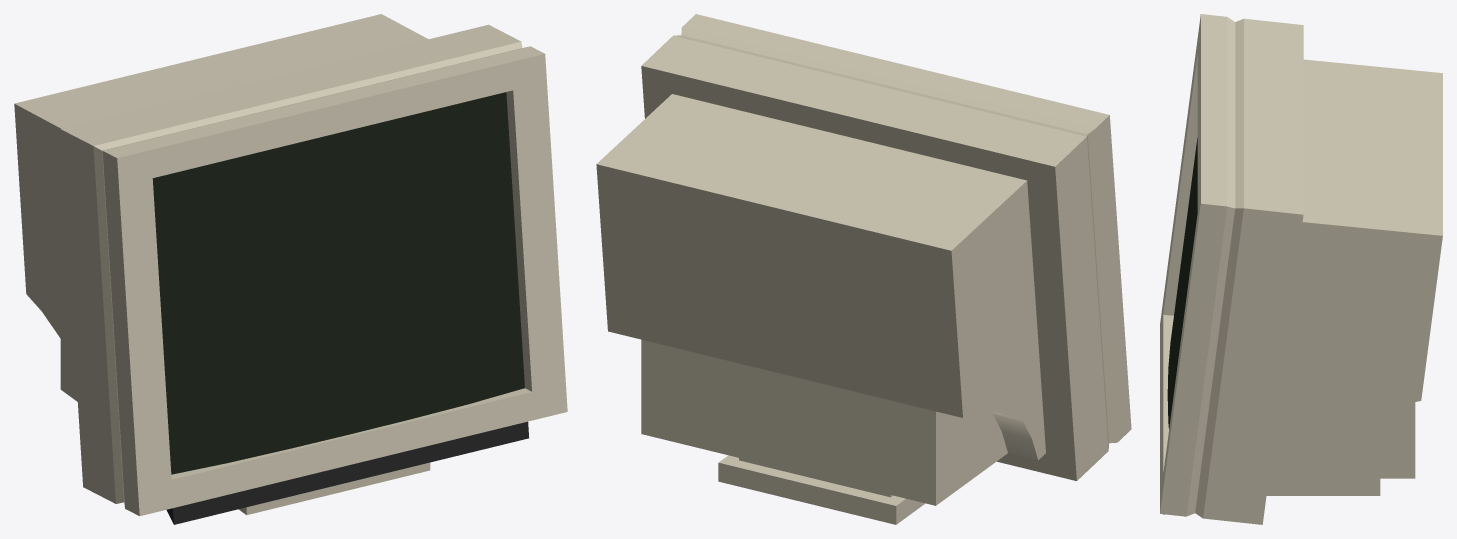
The model's file is Monitor.glb.
3 views of the same model, side by side, from view 1: azimuth 30°, elevation 25°; view 2: azimuth 150°, elevation 25°; view 3: azimuth 270°, elevation 25° (orthographic). The views are drawn at different scales.
Parts seen in each view (by area): view 1: Cube.003; view 2: Cube.003; view 3: Cube.003.
Part boxes in pixels (x1,y1,x2,y2): Cube.003: (14,14,567,524); Cube.003: (596,14,1131,524); Cube.003: (1160,14,1442,524).
Bounding box in the file's own units: 2.6 × 2.22 × 1.64.
